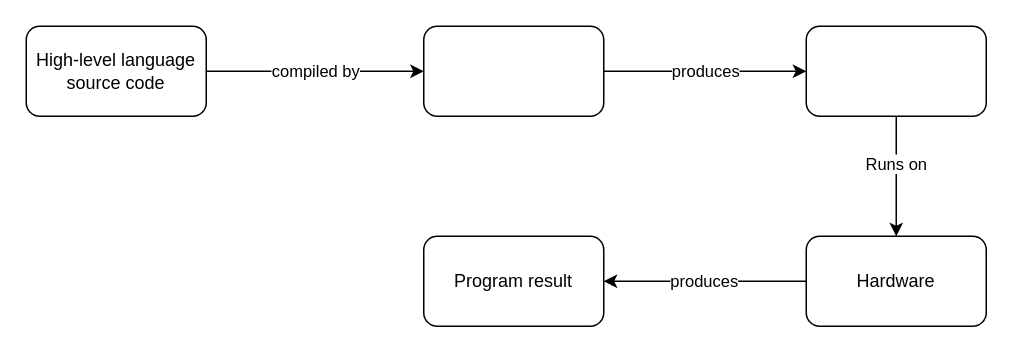
This 1013x353 diagram has some shape labels left out. Here are the shapes that lost their labels. From the top down, the box of each, then its label:
(422, 25, 604, 116): compiler
(805, 25, 986, 116): Executable
